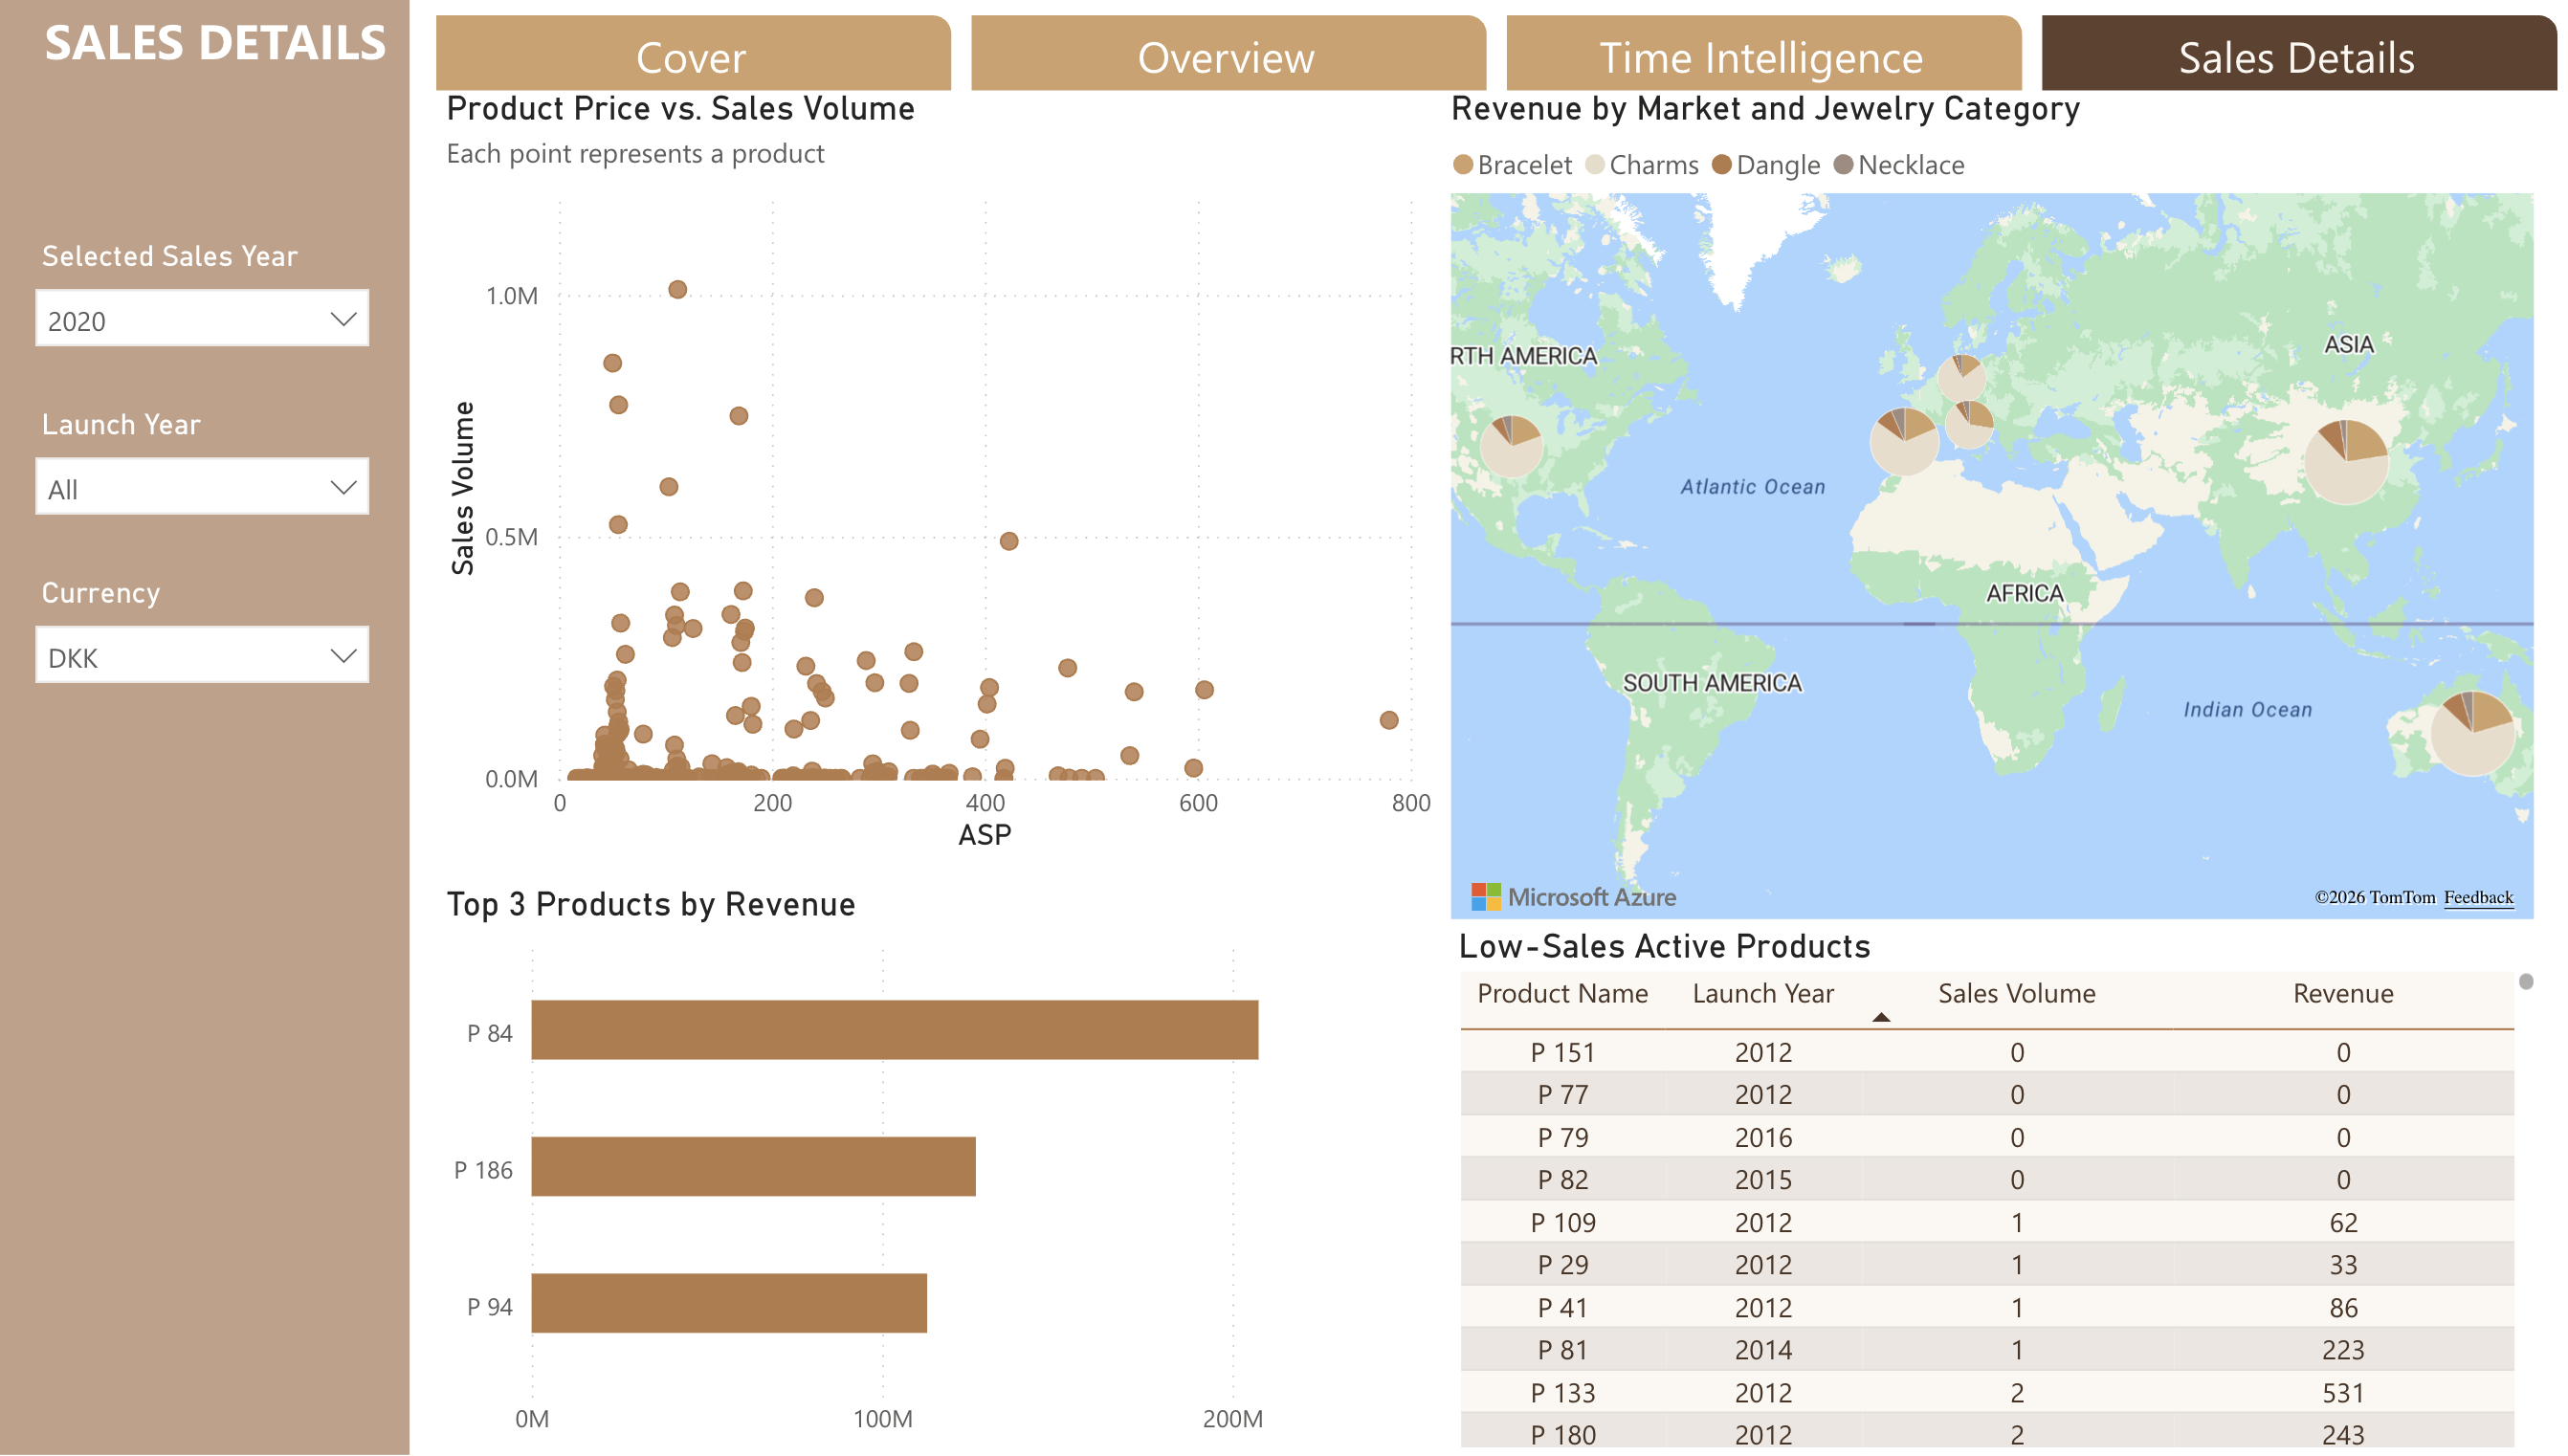

Layout of this report page (visuals, bound fields, positions):
{"tool":"powerbi","page":{"name":"Sales Details","canvas":[1280,720],"ordinal":3},"visuals":[{"type":"shape","box":[0,0,202.1,719.4],"z":0},{"type":"textbox","box":[16.7,0,234.3,47.6],"z":1000},{"type":"slicer","title":"Selected Sales Year","fields":{"Values":["DimDate.Year"]},"box":[7.9,116.2,184.7,63.3],"z":2000},{"type":"slicer","title":"Selected Sales Year","fields":{"Values":["DimProduct.Launch Year"]},"box":[7.7,198.7,184.7,63.3],"z":3000},{"type":"slicer","title":"Selected Sales Year","fields":{"Values":["DimCurrency.Currency"]},"box":[7.7,281.9,184.7,63.3],"z":4000},{"type":"scatterChart","title":"Product Price vs. Sales Volume","fields":{"X":["FactSalesOverview.ASP"],"Y":["FactSalesOverview.TotalSalesQty"],"Category":["DimProduct.Product Name"]},"box":[215.2,47.5,495.5,379.1],"z":5000},{"type":"map","title":"Revenue by Market and Jewelry Category","fields":{"Size":["FactSalesOverview.TotalSales"],"Category":["DimBusinessLine.Country"],"Series":["DimProduct.SubCategory"]},"box":[710.7,47.5,544.3,412.9],"z":6000},{"type":"clusteredBarChart","title":"Top 3 Products by Revenue","fields":{"Y":["FactSalesOverview.TotalSales"],"Category":["DimProduct.Product Name"]},"box":[215.2,439.2,499.6,258.1],"z":7000},{"type":"pageNavigator","box":[215.5,9.1,1048.8,37.9],"z":8000},{"type":"tableEx","title":"Low-Sales Products","fields":{"Values":["DimProduct.Product Name","DimProduct.Launch Year","FactSalesOverview.TotalSalesQty","FactSalesOverview.TotalSales"]},"box":[714.5,460.5,541.1,260.2],"z":9000}]}

Visuals, with their boxes in screenshot pixels (x1, y1, x2, y2), scaled from the page's 1280x720 canvas onto the 2568x1456 screenshot:
shape: [left=0, top=0, right=406, bottom=1455]
textbox: [left=33, top=0, right=503, bottom=97]
"Selected Sales Year" slicer: [left=16, top=235, right=387, bottom=363]
"Selected Sales Year" slicer: [left=15, top=402, right=386, bottom=530]
"Selected Sales Year" slicer: [left=15, top=570, right=386, bottom=698]
"Product Price vs. Sales Volume" scatterChart: [left=432, top=96, right=1426, bottom=863]
"Revenue by Market and Jewelry Category" map: [left=1426, top=96, right=2518, bottom=931]
"Top 3 Products by Revenue" clusteredBarChart: [left=432, top=888, right=1434, bottom=1410]
pageNavigator: [left=432, top=18, right=2536, bottom=95]
"Low-Sales Products" tableEx: [left=1433, top=931, right=2519, bottom=1455]
